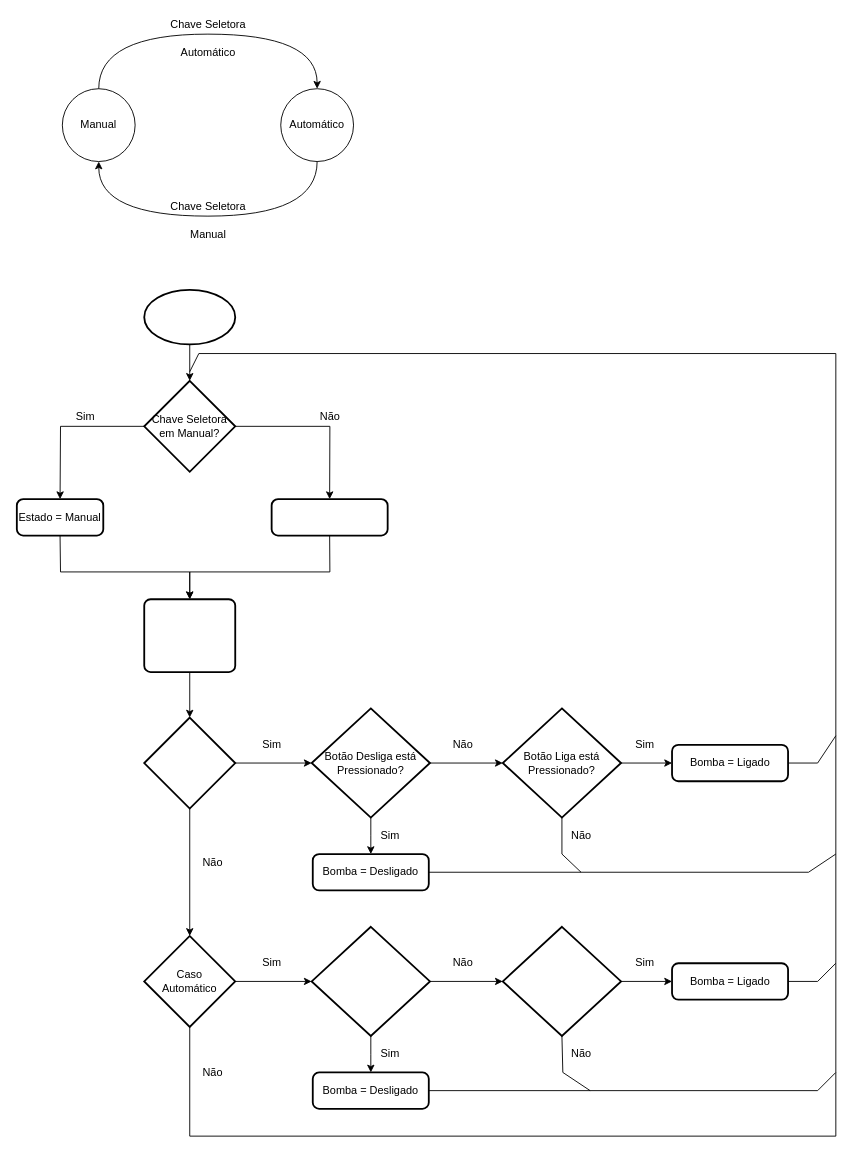
This 853x1153 diagram has some shape labels left out. Here are the shapes that lost their labels. From the top down, the box of each, then its label:
(143, 288, 236, 345): Início
(270, 498, 388, 536): Estado = Automático
(143, 598, 236, 672): Swtich Estado
(143, 716, 236, 809): Caso Manual
(310, 925, 430, 1036): Sensores Alto E Baixo estão Acionados?
(501, 925, 622, 1036): Sensores Alto E Baixo estão Desacionados?
